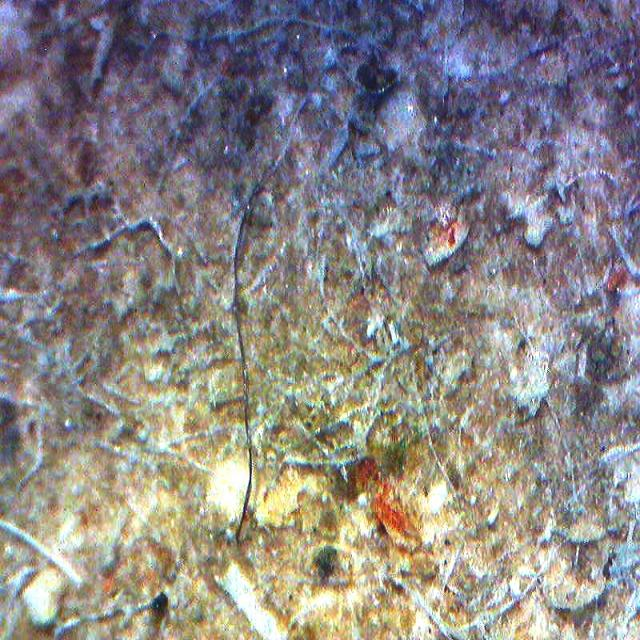microplastic: (233, 182, 264, 543)
